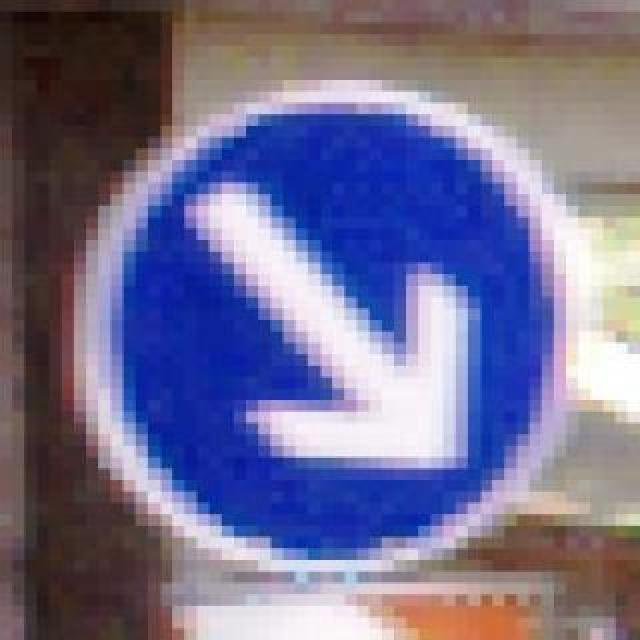keep right: (62, 68, 566, 572)
